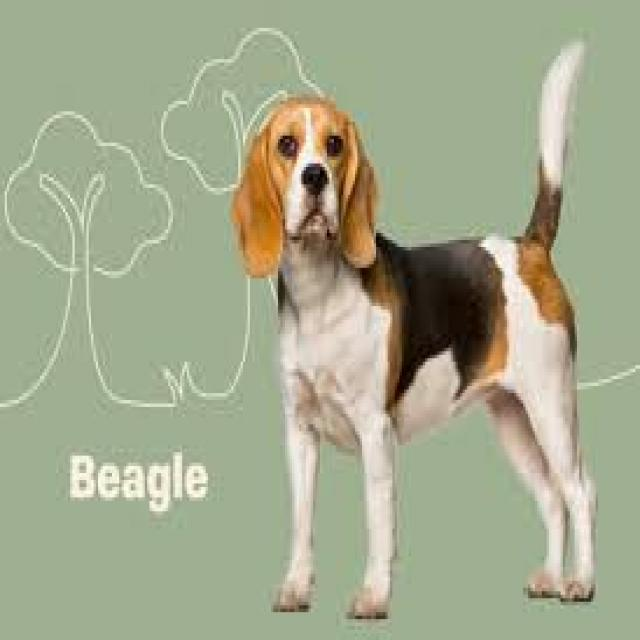Dog: (229, 35, 601, 622)
